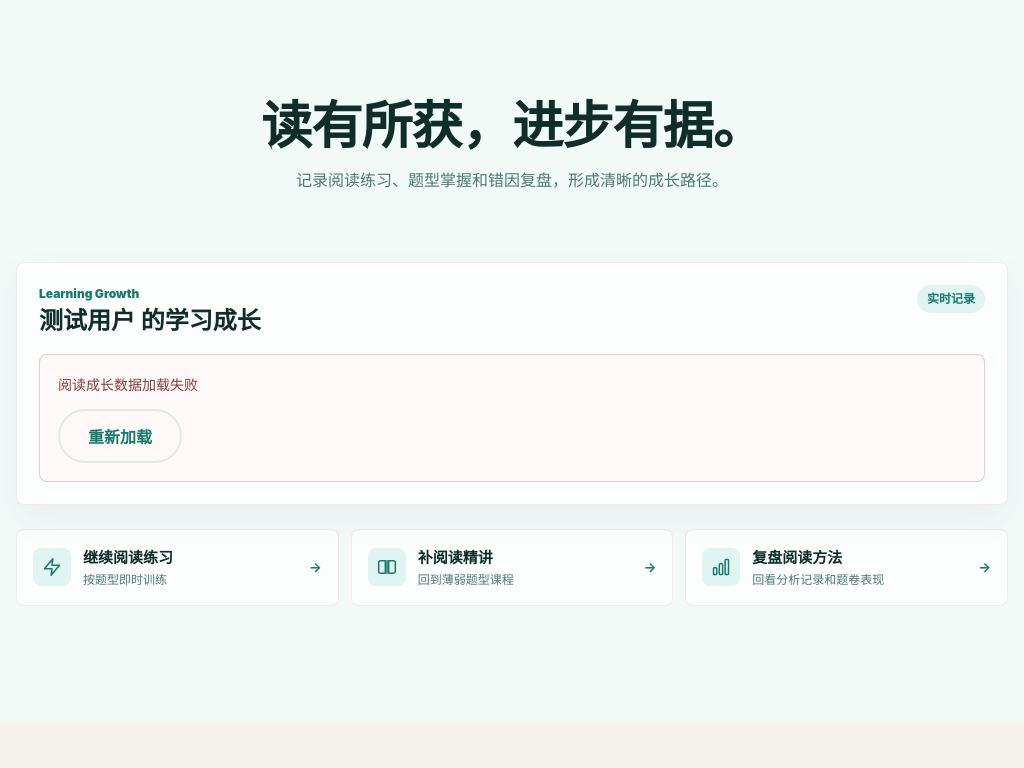
ReadingProgressPage › shows an error state and retries when loading fails
Expected: the text "阅读成长数据加载失败" is shown, [58,376,198,393]
Click the button "重新加载": [120, 436] box [58,409,182,463]
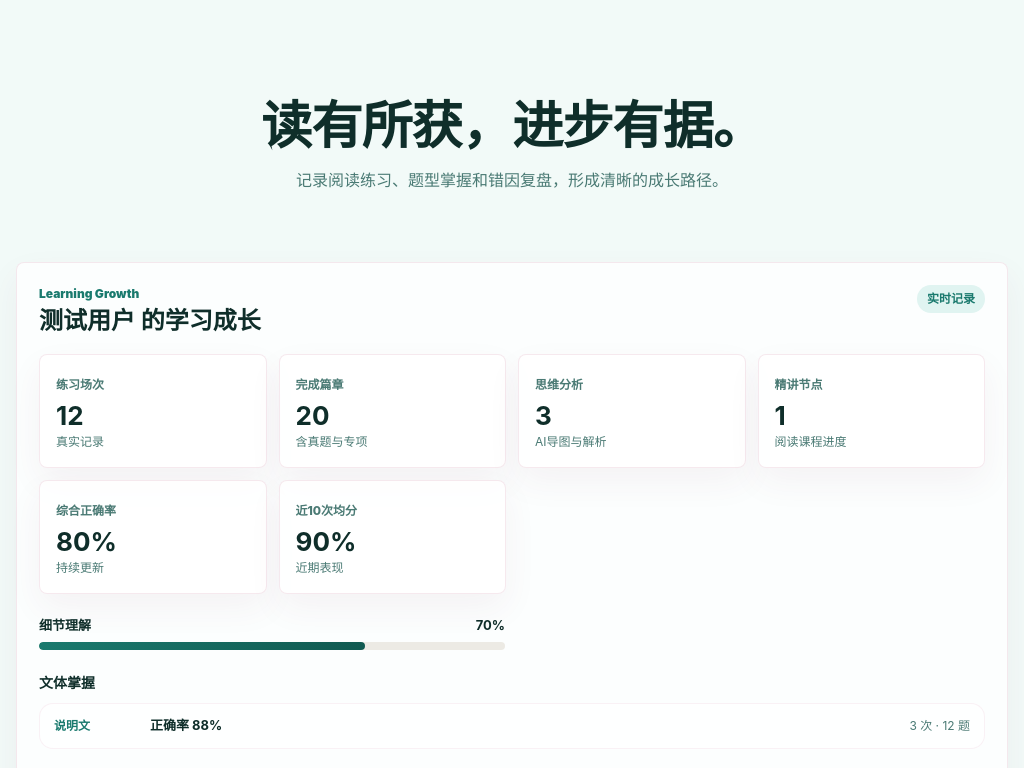
Result: the text "文体掌握" is shown at [39,672,95,693]
